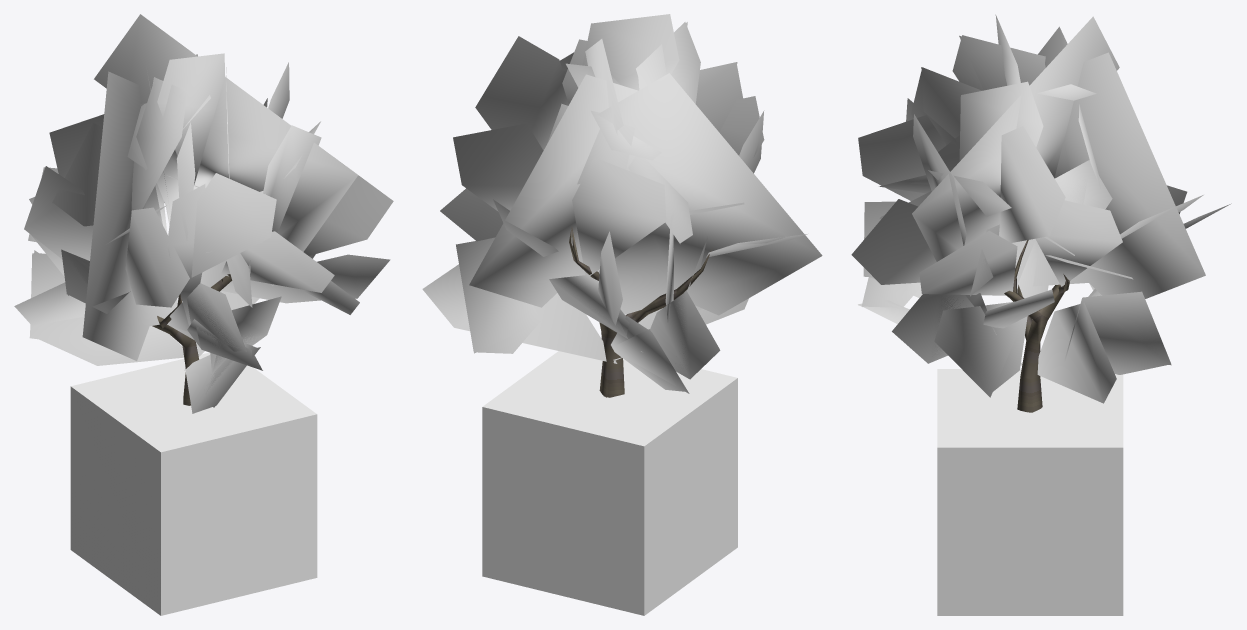
Rendered from plants_me_tree_oak04.gltf.
The picture shows the model from 3 angles, left to right: view 1: azimuth 30°, elevation 25°; view 2: azimuth 150°, elevation 25°; view 3: azimuth 270°, elevation 25°; orthographic projection. The views are drawn at different scales.
Visible parts, largest first — view 1: um_plants_me_tree_oak04_model_lod0Shape:plants_oak01_branch0, um_plants_me_tree_oak04_model_lod0Shape:objects_tree_decal01, um_plants_me_tree_oak04_model_lod1Shape:plants_oak01_branch0, um_plants_me_tree_oak04_model_lod0Shape:plants_me_tree_oak04; view 2: um_plants_me_tree_oak04_model_lod0Shape:plants_oak01_branch0, um_plants_me_tree_oak04_model_lod0Shape:objects_tree_decal01, um_plants_me_tree_oak04_model_lod1Shape:plants_oak01_branch0, um_plants_me_tree_oak04_model_lod0Shape:plants_me_tree_oak04; view 3: um_plants_me_tree_oak04_model_lod0Shape:plants_oak01_branch0, um_plants_me_tree_oak04_model_lod0Shape:objects_tree_decal01, um_plants_me_tree_oak04_model_lod1Shape:plants_oak01_branch0, um_plants_me_tree_oak04_model_lod0Shape:plants_me_tree_oak04, um_plants_me_tree_oak04_model_lod1Shape:plants_me_tree_oak04.
Part boxes in pixels (left/top/right/bottom): um_plants_me_tree_oak04_model_lod0Shape:plants_oak01_branch0: left=14, top=14, right=393, bottom=413; um_plants_me_tree_oak04_model_lod0Shape:objects_tree_decal01: left=70, top=352, right=317, bottom=615; um_plants_me_tree_oak04_model_lod1Shape:plants_oak01_branch0: left=14, top=54, right=390, bottom=407; um_plants_me_tree_oak04_model_lod0Shape:plants_me_tree_oak04: left=152, top=274, right=232, bottom=405; um_plants_me_tree_oak04_model_lod0Shape:plants_oak01_branch0: left=422, top=14, right=822, bottom=391; um_plants_me_tree_oak04_model_lod0Shape:objects_tree_decal01: left=482, top=351, right=737, bottom=615; um_plants_me_tree_oak04_model_lod1Shape:plants_oak01_branch0: left=441, top=22, right=788, bottom=393; um_plants_me_tree_oak04_model_lod0Shape:plants_me_tree_oak04: left=569, top=226, right=712, bottom=397; um_plants_me_tree_oak04_model_lod0Shape:plants_oak01_branch0: left=851, top=14, right=1205, bottom=403; um_plants_me_tree_oak04_model_lod0Shape:objects_tree_decal01: left=937, top=369, right=1123, bottom=615; um_plants_me_tree_oak04_model_lod1Shape:plants_oak01_branch0: left=858, top=35, right=1230, bottom=397; um_plants_me_tree_oak04_model_lod0Shape:plants_me_tree_oak04: left=1004, top=240, right=1069, bottom=412; um_plants_me_tree_oak04_model_lod1Shape:plants_me_tree_oak04: left=1014, top=256, right=1068, bottom=412.
Size of what is drawn, in the model's own units: 1.98 by 3.26 by 2.05.
3 materials, 1 textured.
